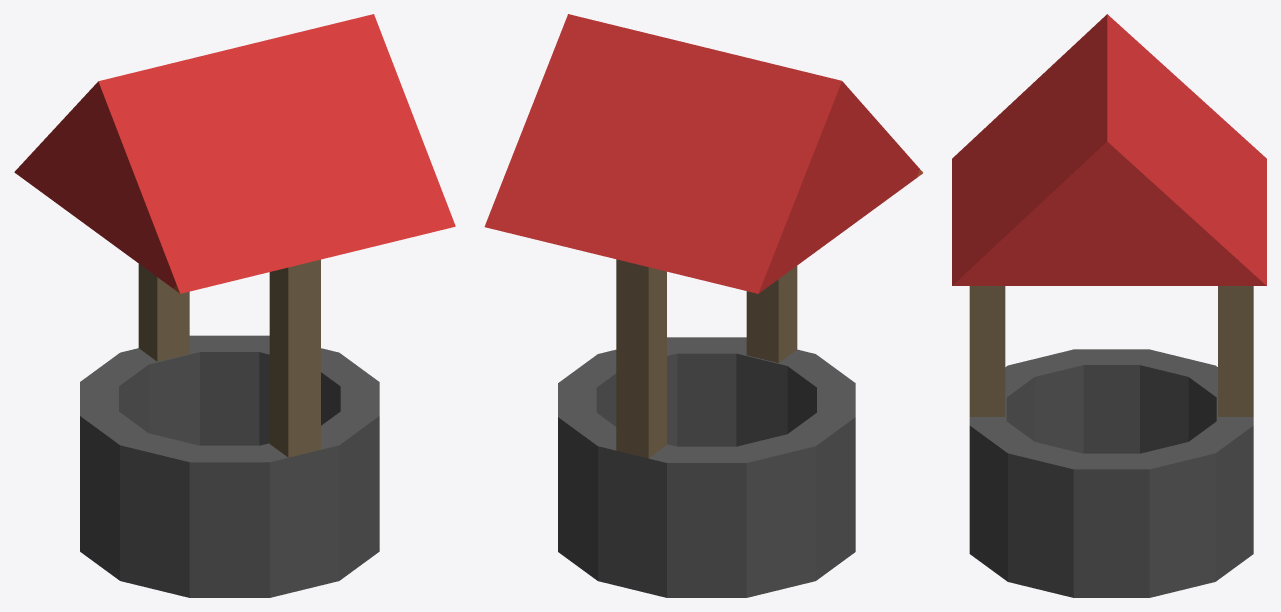
Rendered from Well.obj.
The picture shows the model from 3 angles, left to right: view 1: azimuth 30°, elevation 25°; view 2: azimuth 150°, elevation 25°; view 3: azimuth 270°, elevation 25°; orthographic projection. The views are drawn at different scales.
Visible parts, largest first — view 1: Roof, Base, Pillar; view 2: Roof, Base, Pillar; view 3: Roof, Base, Pillar.
Boxes of the visible parts, x1=… form: Roof: x1=14, y1=14, x2=455, y2=293; Base: x1=80, y1=335, x2=379, y2=597; Pillar: x1=138, y1=259, x2=320, y2=457; Roof: x1=484, y1=14, x2=922, y2=293; Base: x1=558, y1=337, x2=855, y2=597; Pillar: x1=616, y1=259, x2=797, y2=458; Roof: x1=952, y1=14, x2=1266, y2=285; Base: x1=969, y1=349, x2=1253, y2=597; Pillar: x1=969, y1=286, x2=1253, y2=416.
Size of the model in its own units: 2.12 by 3.59 by 2.22.
Materials: 1 (1 with a texture image).
